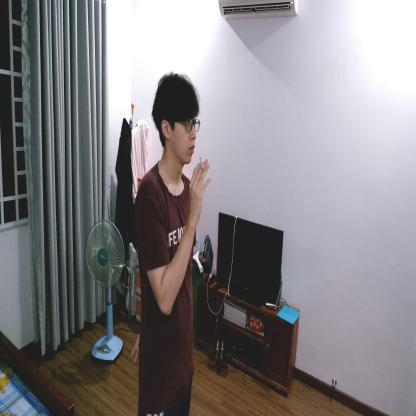cigarette: (199, 156, 204, 172)
person: (133, 69, 211, 415)
